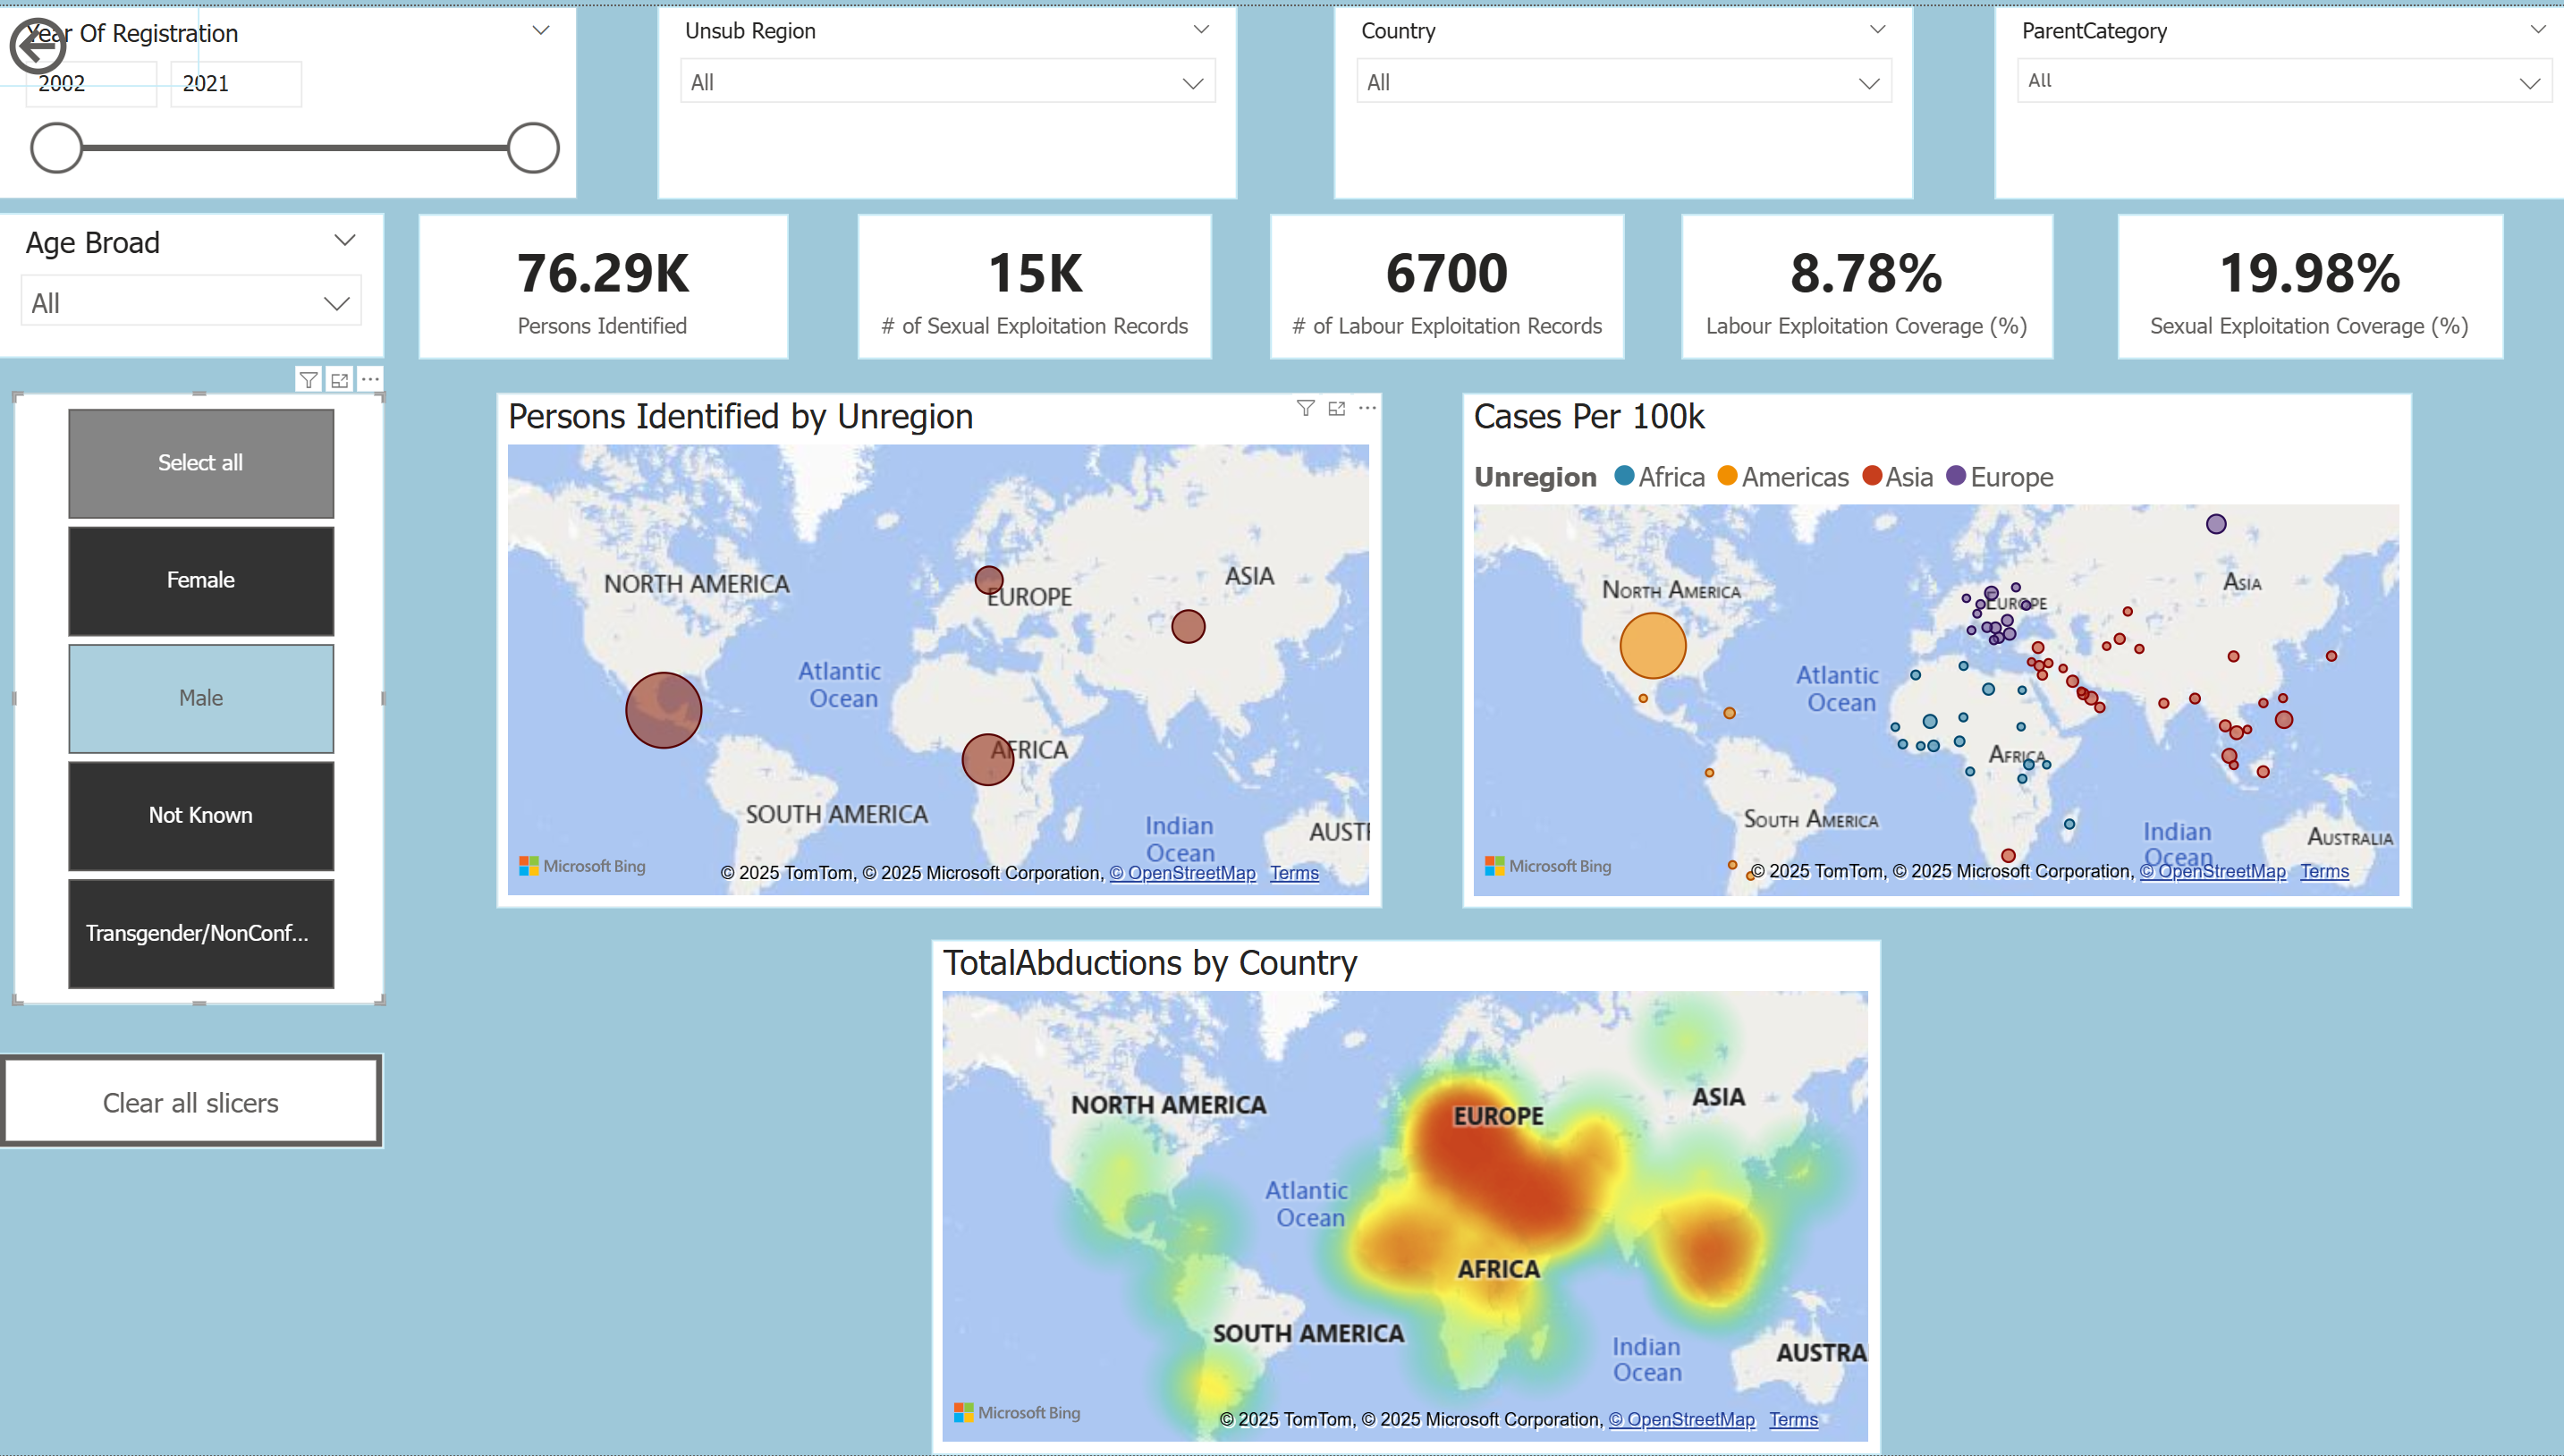

Layout of this report page (visuals, bound fields, positions):
{"tool":"powerbi","page":{"name":"Maps","canvas":[1280,720],"ordinal":1},"visuals":[{"type":"card","fields":{"Values":["CTDC.Persons Identified"]},"box":[209.1,103.1,183.8,72],"z":0},{"type":"card","fields":{"Values":["CTDC.LabourExploitationCount"]},"box":[632.2,103.1,176,72],"z":1000},{"type":"card","fields":{"Values":["CTDC.SexualExploitationCompleteness"]},"box":[1053.4,103.1,191.6,72],"z":2000},{"type":"card","fields":{"Values":["CTDC.LabourExploitationCompleteness"]},"box":[836.5,103.1,184.8,72],"z":3000},{"type":"slicer","fields":{"Values":["CTDC.Year Of Registration"]},"box":[0,0,288,96],"z":4000},{"type":"slicer","fields":{"Values":["CTDC.Gender"]},"box":[8,192,184,304],"z":5000},{"type":"slicer","fields":{"Values":["CTDC.ParentCategory"]},"box":[992,0,288,96],"z":6000},{"type":"slicer","fields":{"Values":["CTDC.Age Broad"]},"box":[0,102.9,191.6,71.9],"z":7000},{"type":"slicer","fields":{"Values":["CTDC.Country"]},"box":[664,0,288,96],"z":8000},{"type":"card","fields":{"Values":["CTDC.SexualExploitationCount"]},"box":[427,103.1,176,72],"z":9000},{"type":"actionButton","box":[0,0,100,40],"z":10000},{"type":"slicer","fields":{"Values":["CTDC.Unsub Region"]},"box":[328,0,288,96],"z":11000},{"type":"map","fields":{"Category":["CTDC.Unregion"],"Size":["CTDC.Persons Identified"]},"box":[248,192,440,256],"z":12000},{"type":"map","fields":{"Category":["CTDC.Country"],"Size":["CTDC.TotalAbductions"]},"box":[464,464,472,256],"z":13000},{"type":"actionButton","box":[0,520,192,48],"z":14000},{"type":"map","fields":{"Category":["CTDC.Iso2"],"Series":["CTDC.Unregion"],"Size":["case_abduction_flags.CasesPer100k"]},"box":[728,192,472,256],"z":14001}]}

Visuals, with their boxes on the page's 1280x720 design canvas (x1, y1, x2, y2). These are canvas units, not pixel positions in the 2564x1456 screenshot, which may show the page scaled, cropped or inside an application window:
card - CTDC.Persons Identified: [209, 103, 393, 175]
card - CTDC.LabourExploitationCount: [632, 103, 808, 175]
card - CTDC.SexualExploitationCompleteness: [1053, 103, 1245, 175]
card - CTDC.LabourExploitationCompleteness: [836, 103, 1021, 175]
slicer - CTDC.Year Of Registration: [0, 0, 288, 96]
slicer - CTDC.Gender: [8, 192, 192, 496]
slicer - CTDC.ParentCategory: [992, 0, 1280, 96]
slicer - CTDC.Age Broad: [0, 103, 192, 175]
slicer - CTDC.Country: [664, 0, 952, 96]
card - CTDC.SexualExploitationCount: [427, 103, 603, 175]
actionButton: [0, 0, 100, 40]
slicer - CTDC.Unsub Region: [328, 0, 616, 96]
map - CTDC.Unregion x CTDC.Persons Identified: [248, 192, 688, 448]
map - CTDC.Country x CTDC.TotalAbductions: [464, 464, 936, 720]
actionButton: [0, 520, 192, 568]
map - CTDC.Iso2 x CTDC.Unregion: [728, 192, 1200, 448]
